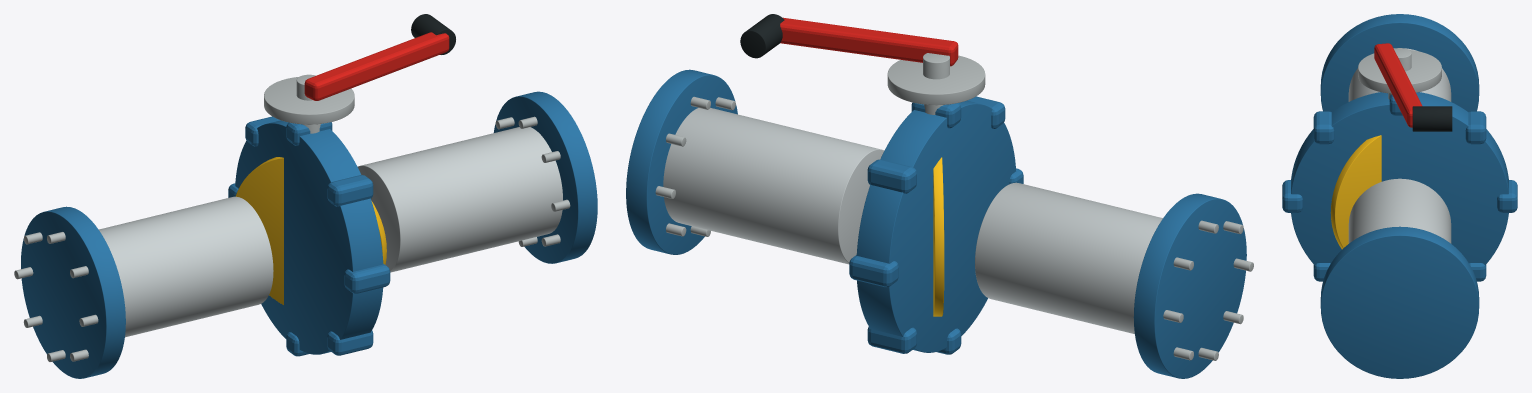
The model's file is wafer_butterfly_valve.glb.
3 renders of one model, left to right at view 1: azimuth 30°, elevation 25°; view 2: azimuth 150°, elevation 25°; view 3: azimuth 270°, elevation 25°, orthographic. The views are drawn at different scales.
Visible parts, largest first — view 1: PIPE_RIGHT, WAFER_BODY, PIPE_LEFT, FLANGE_IN, FLANGE_OUT, KIN_LEVER, KIN_DISC, LOCKING_QUADRANT, WAFER_LUG_135, WAFER_LUG_180, WAFER_LUG_225, LEVER_GRIP (+1 smaller); view 2: WAFER_BODY, PIPE_RIGHT, PIPE_LEFT, FLANGE_IN, FLANGE_OUT, KIN_LEVER, LOCKING_QUADRANT, KIN_DISC, LEVER_GRIP, WAFER_LUG_45, WAFER_LUG_0, WAFER_LUG_315 (+2 smaller); view 3: FLANGE_OUT, WAFER_BODY, FLANGE_IN, PIPE_RIGHT, KIN_DISC, LOCKING_QUADRANT, KIN_LEVER, LEVER_GRIP, PIPE_LEFT, WAFER_LUG_45, WAFER_LUG_135, WAFER_LUG_0 (+4 smaller).
Part boxes in pixels (x1,y1,x2,y2): PIPE_RIGHT: (358,127,562,272); WAFER_BODY: (235,120,383,354); PIPE_LEFT: (99,196,273,337); FLANGE_IN: (21,206,125,378); FLANGE_OUT: (493,91,597,263); KIN_LEVER: (304,32,449,100); KIN_DISC: (235,157,386,304); LOCKING_QUADRANT: (264,77,354,124); WAFER_LUG_135: (327,175,373,206); WAFER_LUG_180: (344,264,390,293); WAFER_LUG_225: (327,330,373,355); LEVER_GRIP: (411,14,455,54); WAFER_BODY: (856,100,1015,352); PIPE_RIGHT: (663,107,884,264); PIPE_LEFT: (975,182,1162,334); FLANGE_IN: (1133,193,1246,378); FLANGE_OUT: (626,69,737,254); KIN_LEVER: (780,17,958,66); LOCKING_QUADRANT: (887,55,985,105); KIN_DISC: (933,157,944,316); LEVER_GRIP: (740,14,784,58); WAFER_LUG_45: (867,159,916,193); WAFER_LUG_0: (849,255,898,287); WAFER_LUG_315: (867,326,916,353); FLANGE_OUT: (1320,226,1479,378); WAFER_BODY: (1291,92,1508,265); FLANGE_IN: (1320,14,1479,111); PIPE_RIGHT: (1348,178,1451,243); KIN_DISC: (1330,135,1381,249); LOCKING_QUADRANT: (1358,50,1441,93); KIN_LEVER: (1374,43,1422,127); LEVER_GRIP: (1412,106,1452,131); PIPE_LEFT: (1348,48,1451,101); WAFER_LUG_45: (1465,111,1486,144); WAFER_LUG_135: (1313,111,1334,144); WAFER_LUG_0: (1497,180,1517,212).
Size of the model in its own units: 2.32 by 1.23 by 1.01.
